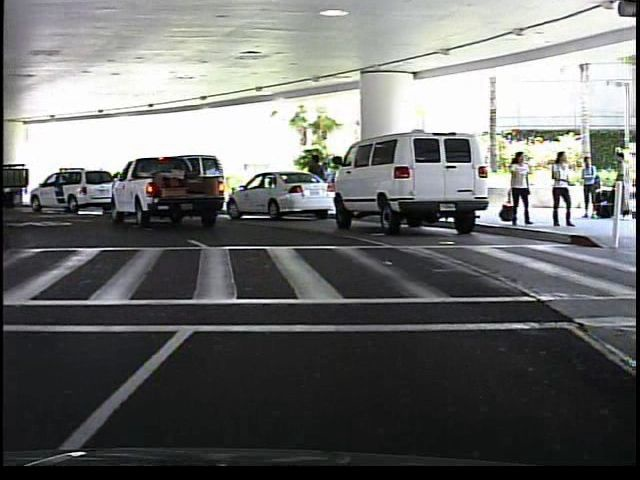person: (505, 148, 534, 228), (550, 152, 578, 234), (577, 155, 603, 225), (609, 150, 632, 221), (307, 150, 329, 212)
